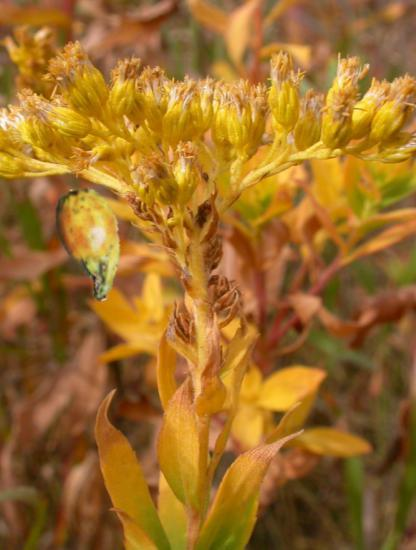Cactus: (35, 185, 152, 302)
